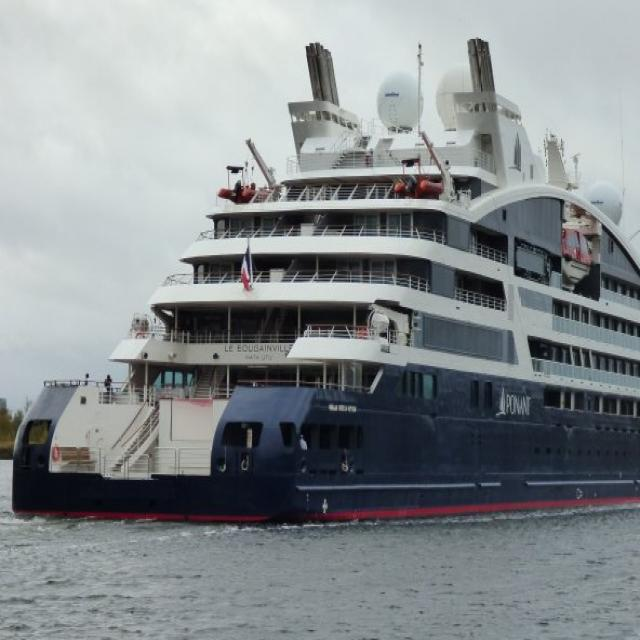cruises: (8, 34, 640, 531)
